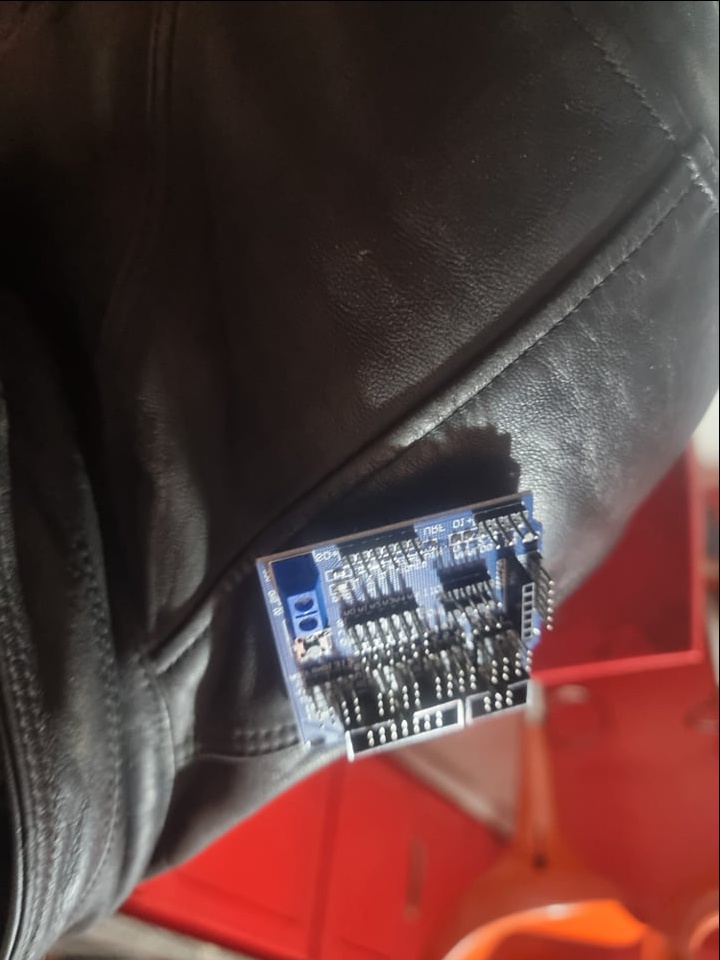5V EXPANSION: (251, 488, 561, 761)
